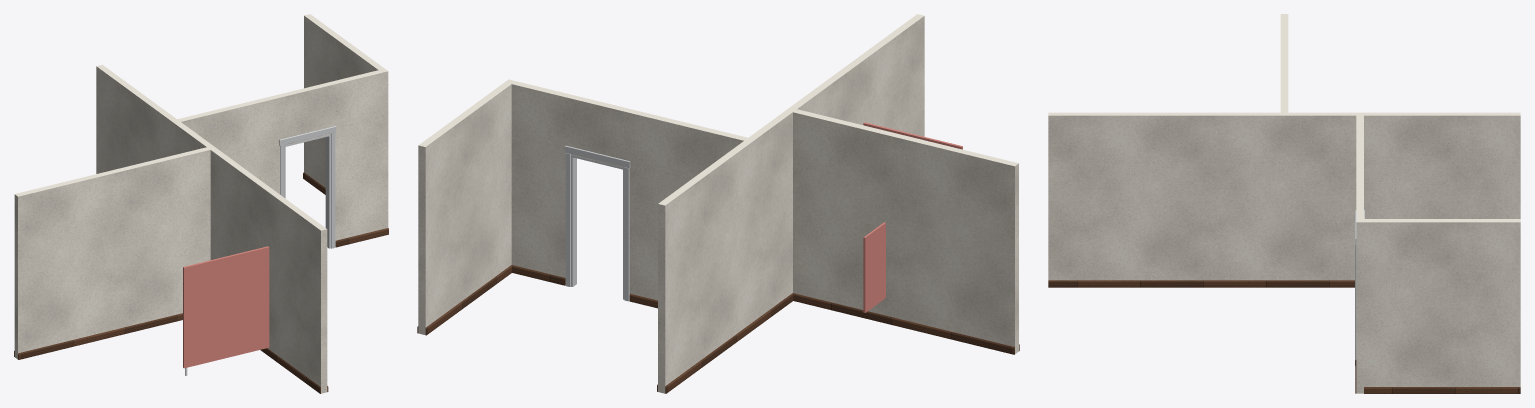
The model's file is plan.glb.
3 views of the same model, side by side, from view 1: azimuth 30°, elevation 25°; view 2: azimuth 150°, elevation 25°; view 3: azimuth 270°, elevation 25° (orthographic). The views are drawn at different scales.
Visible parts, largest first — view 1: plan_plaster, plan_stall, plan_dkwood, plan_frame; view 2: plan_plaster, plan_dkwood, plan_frame, plan_stall; view 3: plan_plaster, plan_dkwood.
Boxes of the visible parts, x1,y1,x2,y2 form: plan_plaster: (14,14,388,393); plan_stall: (183,246,269,368); plan_dkwood: (14,172,388,393); plan_frame: (279,126,335,248); plan_plaster: (418,14,1018,393); plan_dkwood: (417,265,1019,393); plan_frame: (565,145,630,301); plan_stall: (863,122,962,312); plan_plaster: (1048,14,1520,393); plan_dkwood: (1048,280,1520,393).
Size of the model in its own units: 7.84 by 3 by 7.5.
Materials: 5 (2 with a texture image).
